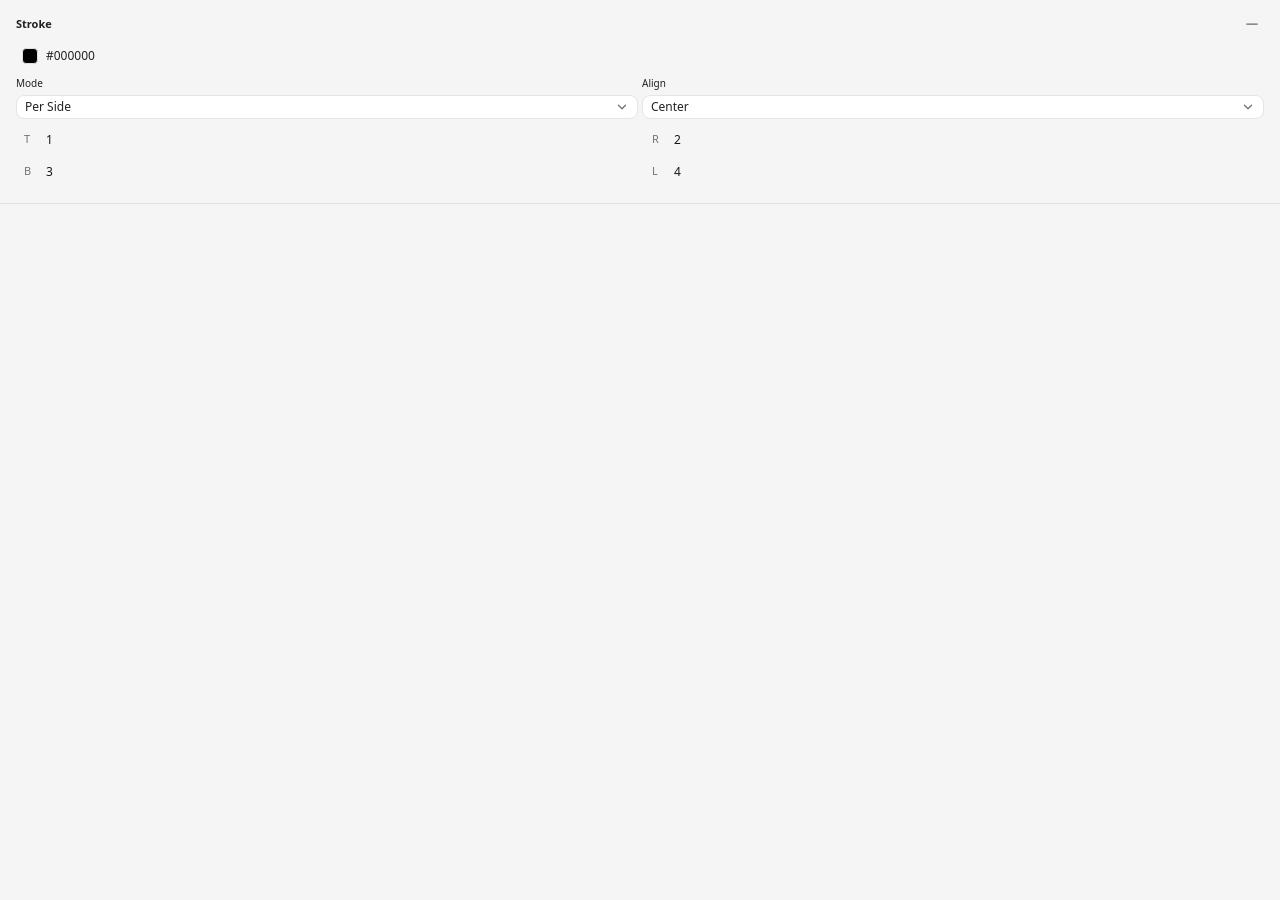
Test: <StrokeSection /> › per-side stroke › renders T/R/B/L inputs and hides the unified weight
What coordinates should you click on to do the following:
click the button titled "Edit stroke"
I would click on:
 (70, 56)
Its box is [16, 44, 1264, 68].
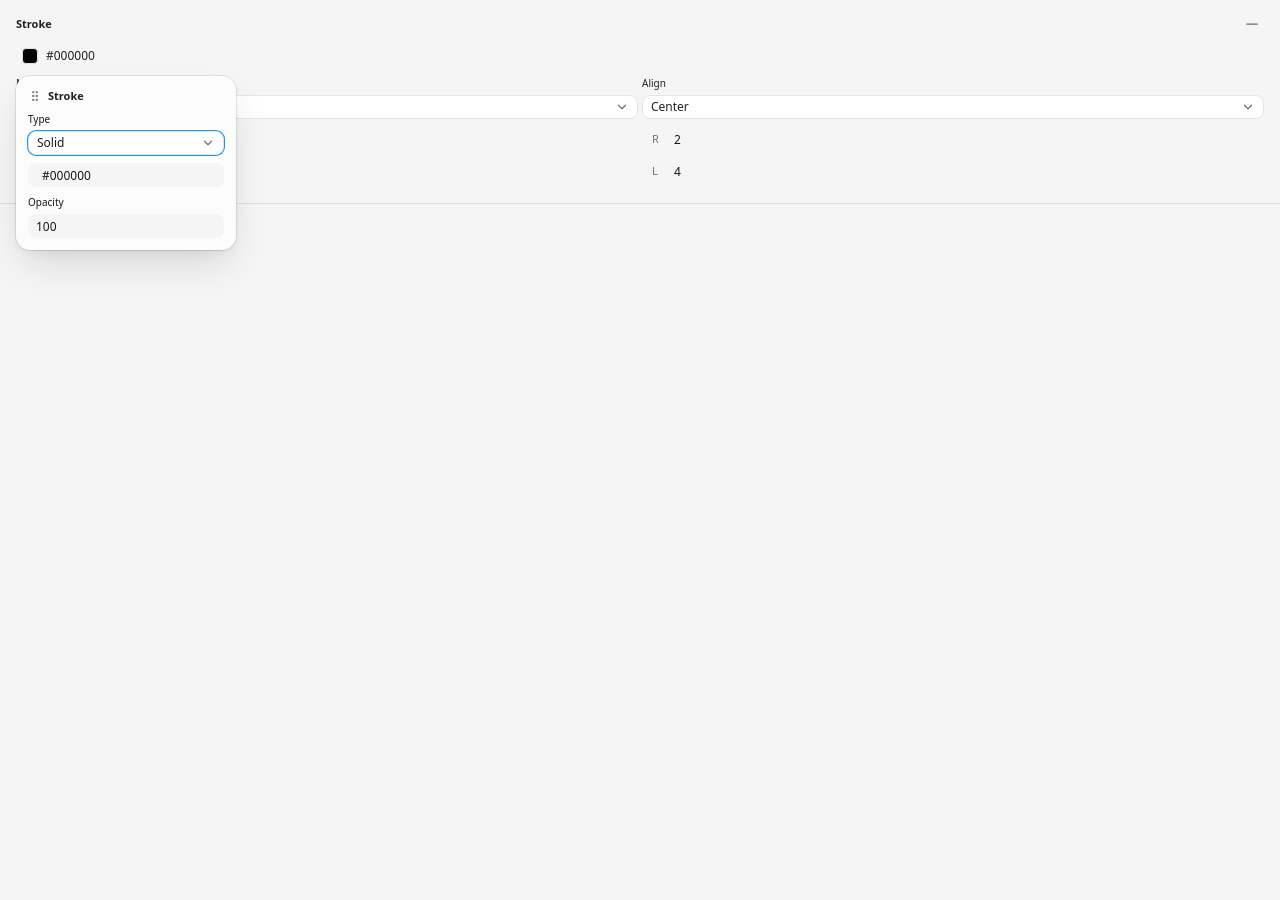
Expected: the 1st number field holds "1", [40, 127, 636, 151]
Now the number field below "Opacity" holds "100", box [28, 214, 224, 238]
